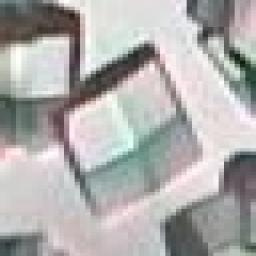crystals: (46, 44, 203, 218)
